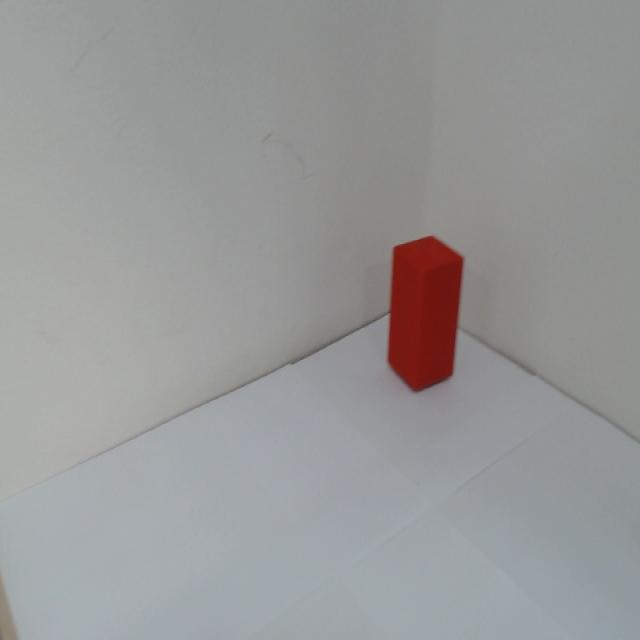cube: (381, 231, 469, 398)
